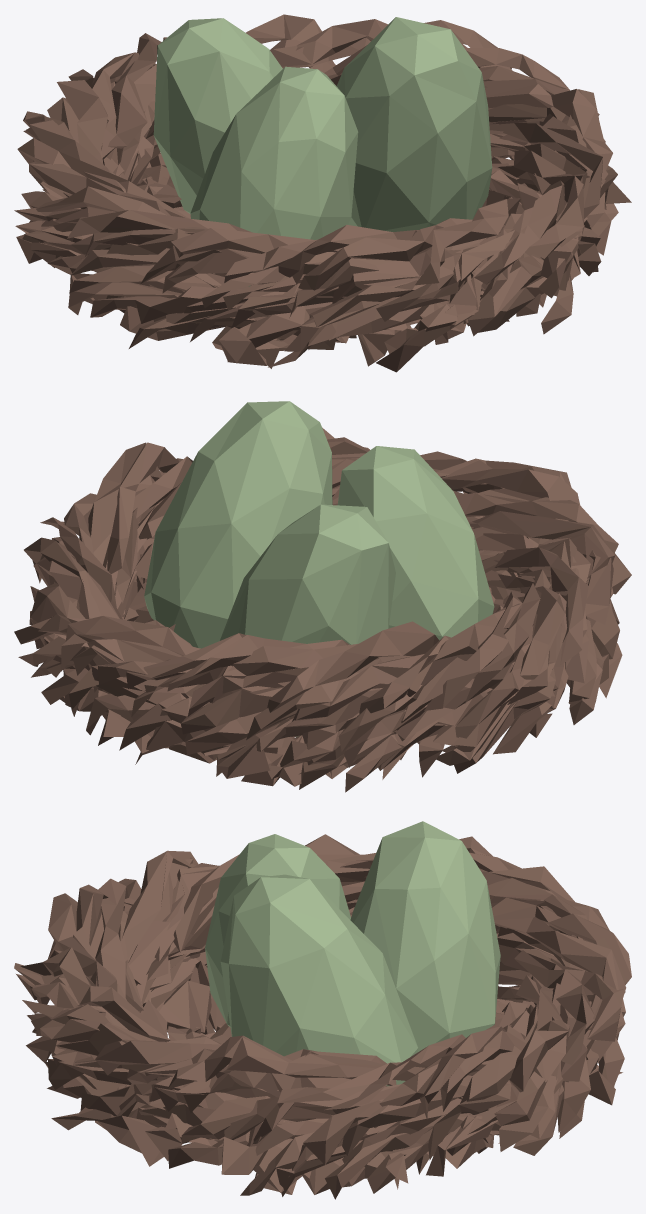
The model's file is Nest_07.fbx.
3 views of the same model, one above another, from view 1: azimuth 30°, elevation 25°; view 2: azimuth 150°, elevation 25°; view 3: azimuth 270°, elevation 25° (orthographic).
Visible parts, largest first — view 1: Nest_07_LOD0; view 2: Nest_07_LOD0; view 3: Nest_07_LOD0.
Part boxes in pixels (x1,y1,x2,y2): Nest_07_LOD0: (14, 14, 631, 372); Nest_07_LOD0: (14, 401, 631, 792); Nest_07_LOD0: (14, 821, 631, 1199).
Size of what is drawn, in the model's own units: 63.74 by 30.58 by 63.38.
